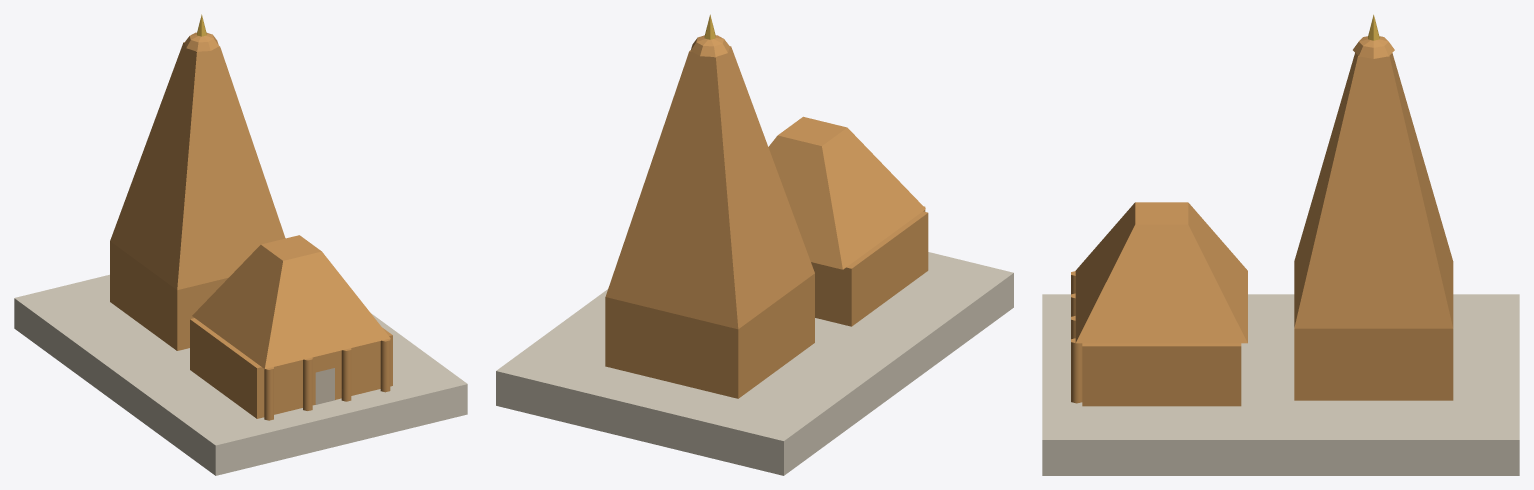
The model's file is temple_hindou.glb.
3 views of the same model, side by side, from view 1: azimuth 30°, elevation 25°; view 2: azimuth 150°, elevation 25°; view 3: azimuth 270°, elevation 25° (orthographic). The views are drawn at different scales.
Parts seen in each view (by area): view 1: temple_hindou; view 2: temple_hindou; view 3: temple_hindou.
Boxes of the visible parts, bbox=[...] form: temple_hindou: bbox=[14, 14, 467, 475]; temple_hindou: bbox=[496, 14, 1013, 475]; temple_hindou: bbox=[1042, 14, 1519, 475].
Size of the model in its own units: 26 by 32.4 by 36.
Materials: 1 (1 with a texture image).
